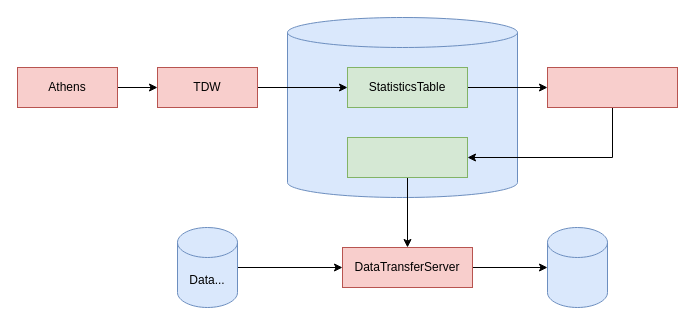
This 695x325 diagram has some shape labels left out. The shapes that lost their labels are listed below. From the top down, each one's centre as x and y in pixels, then its label:
At [612,87]: "StatisticalScoreServer".
At [407,157]: "ScoreResultTable".
At [577,267]: "ES".
